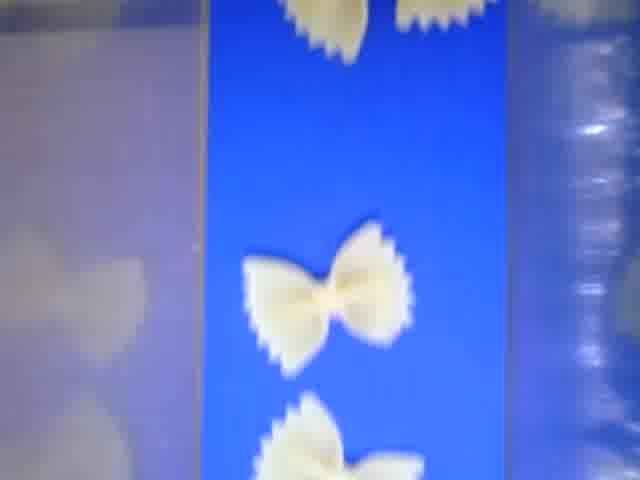farfalle: (242, 218, 417, 382), (252, 392, 424, 480), (284, 1, 368, 61), (392, 1, 482, 33)
